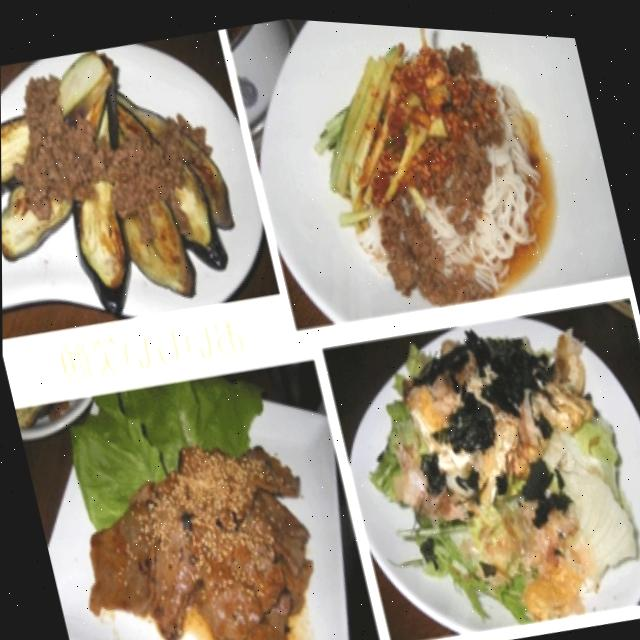鸡蛋料理: (0, 19, 259, 346)
